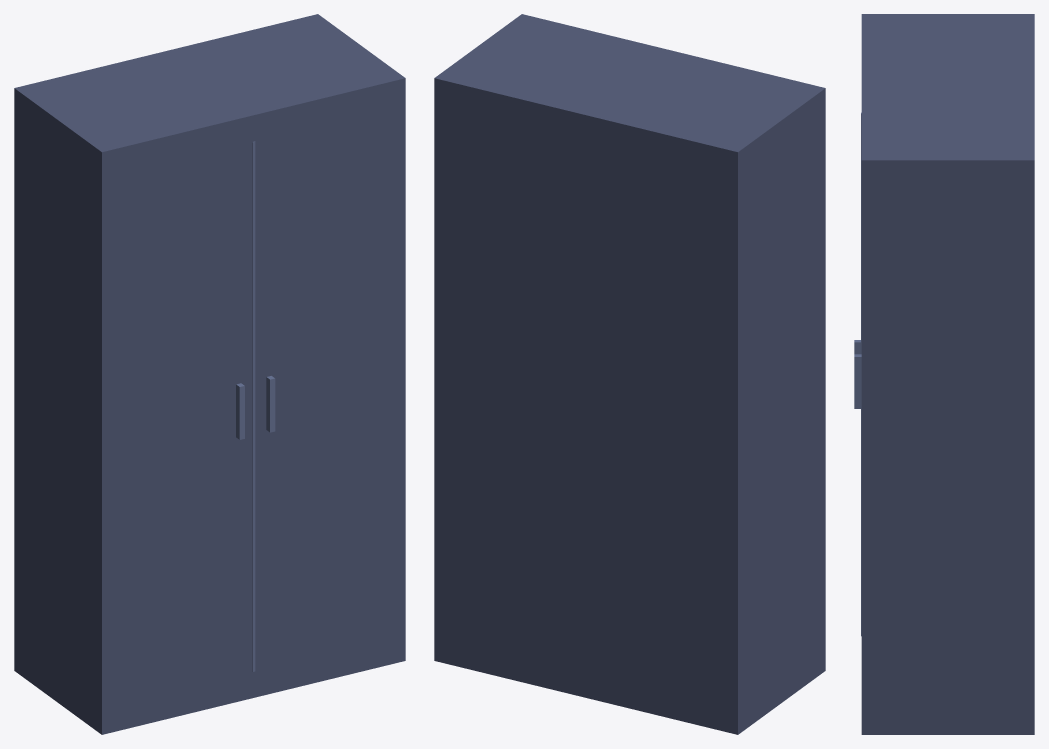
Rendered from Wardrobe.fbx.
3 renders of one model, left to right at view 1: azimuth 30°, elevation 25°; view 2: azimuth 150°, elevation 25°; view 3: azimuth 270°, elevation 25°, orthographic.
Parts seen in each view (by area): view 1: Wardrobe; view 2: Wardrobe; view 3: Wardrobe.
Boxes of the visible parts, box(x1,y1,x2,y2) form: Wardrobe: box(14, 14, 405, 734); Wardrobe: box(434, 14, 825, 734); Wardrobe: box(854, 14, 1034, 734).
Size of the model in its own units: 1.2 by 2.2 by 0.625.
